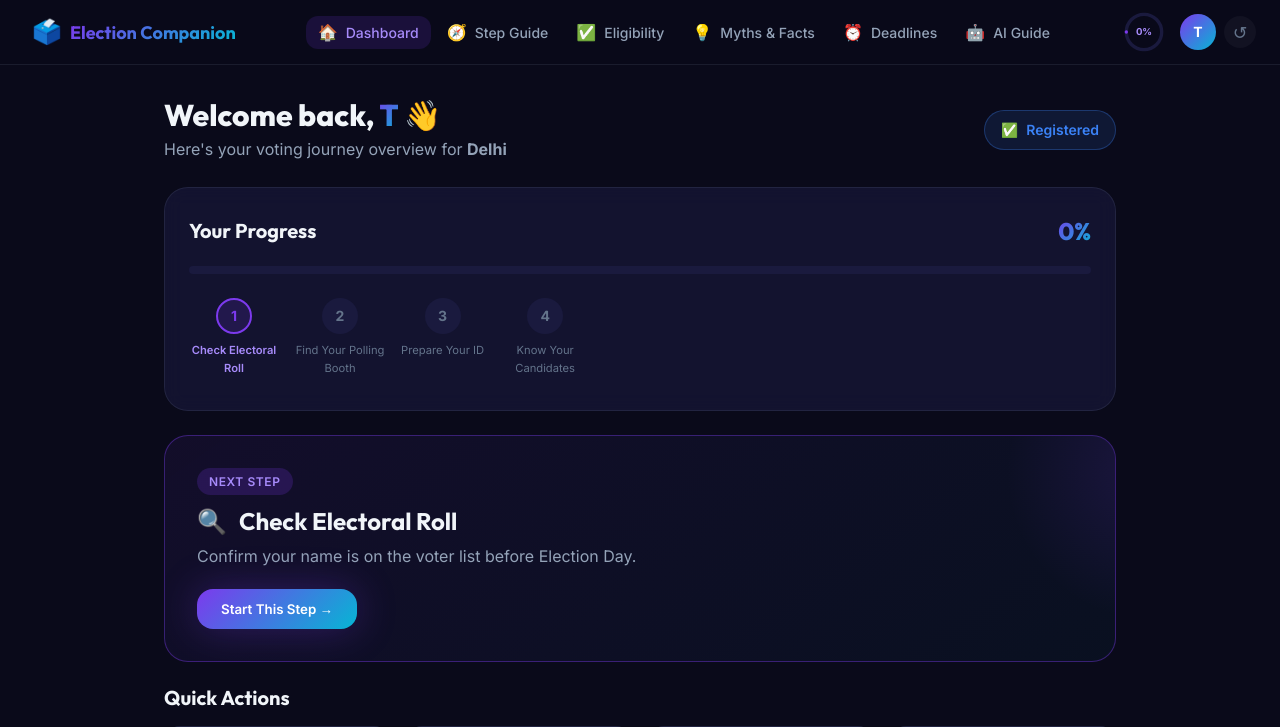
it: Integration: Accessibility › every page has a main landmark
The image size is (1280, 727).
Note: Navigate to guide
Click the button with id "nav-guide" at (497, 32), box [435, 16, 560, 48]
(page scrolled)
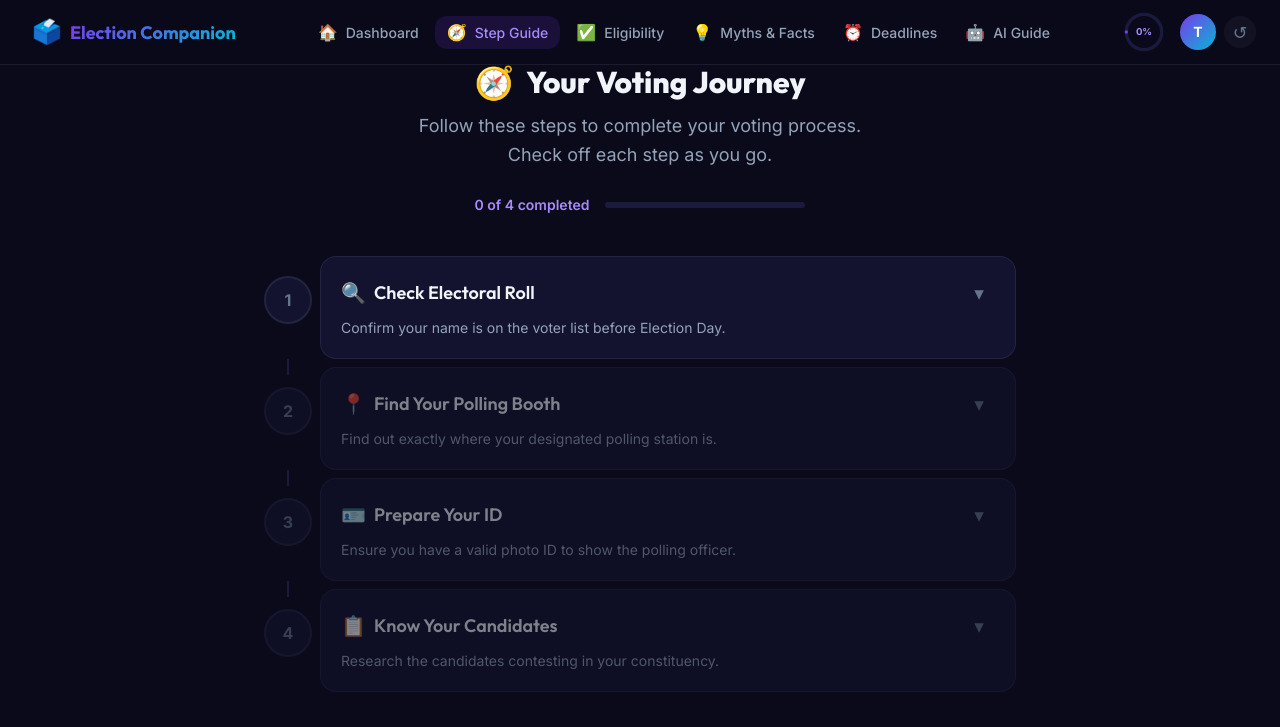
Result: the element that starts with "Your Voting Journey" is shown at [287, 62, 1016, 692]
